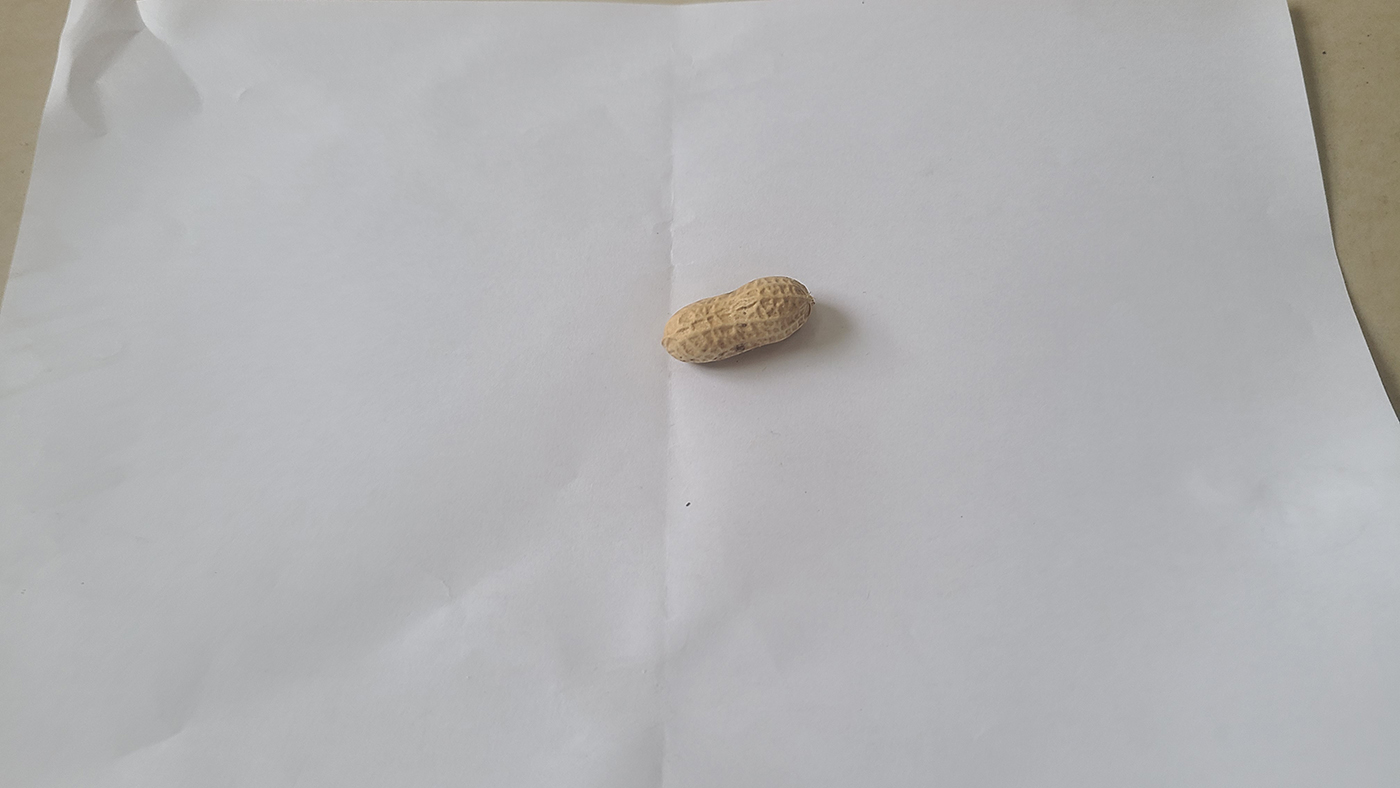h: (660, 274, 814, 364)
